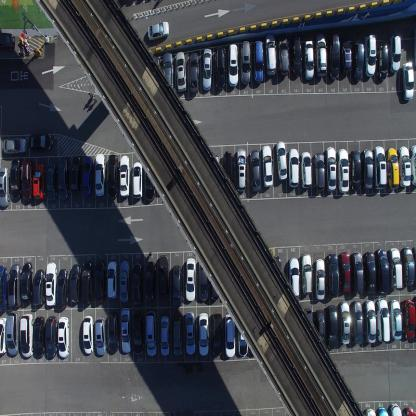car: (312, 34, 328, 78), (5, 310, 20, 356), (7, 263, 22, 308), (400, 298, 416, 340), (388, 247, 403, 290), (376, 247, 389, 296), (44, 314, 58, 359), (376, 298, 390, 342), (373, 145, 387, 189), (386, 146, 400, 190), (262, 34, 276, 77), (401, 246, 416, 286), (351, 249, 364, 295), (388, 298, 402, 340), (326, 253, 339, 298), (20, 313, 33, 358), (145, 309, 157, 357), (157, 253, 169, 301), (120, 306, 132, 354), (325, 144, 337, 192), (275, 36, 289, 77), (251, 40, 264, 84), (350, 300, 363, 344), (239, 40, 251, 87), (211, 311, 223, 357), (81, 260, 93, 306), (261, 143, 273, 189), (94, 152, 106, 198), (300, 253, 313, 295), (106, 311, 119, 353), (56, 268, 69, 310), (340, 31, 352, 76), (249, 148, 261, 193), (325, 304, 337, 349), (224, 312, 236, 357), (45, 262, 57, 307), (337, 148, 349, 193), (362, 147, 374, 192), (329, 32, 340, 81), (57, 158, 70, 199), (32, 162, 46, 200), (147, 19, 170, 42), (214, 45, 226, 89), (288, 257, 300, 301), (364, 250, 376, 294), (364, 299, 376, 343), (132, 311, 144, 355), (237, 313, 249, 357), (198, 312, 210, 356), (184, 310, 196, 354), (144, 260, 156, 304), (118, 258, 130, 302), (94, 260, 106, 304), (222, 150, 234, 194), (349, 148, 361, 192), (364, 33, 376, 77), (398, 146, 411, 186), (314, 258, 326, 301), (338, 301, 350, 344), (21, 261, 33, 304), (143, 159, 155, 202), (94, 317, 107, 356), (107, 154, 118, 200), (289, 36, 301, 78), (339, 251, 351, 293), (302, 306, 314, 348), (33, 316, 45, 358), (209, 152, 221, 194), (276, 140, 288, 182), (21, 160, 33, 202), (106, 259, 118, 300), (82, 314, 94, 355), (132, 260, 142, 309), (236, 148, 247, 192), (198, 258, 209, 302), (185, 257, 196, 301), (301, 41, 313, 81), (314, 308, 326, 348), (313, 152, 325, 192), (389, 32, 401, 72), (402, 61, 414, 101), (28, 132, 53, 151), (2, 136, 27, 155), (174, 49, 185, 92), (270, 254, 281, 297), (300, 150, 312, 189), (188, 50, 199, 92), (58, 316, 69, 358), (162, 51, 173, 93), (10, 158, 21, 200), (288, 147, 299, 188), (228, 43, 238, 88), (119, 153, 129, 198), (377, 43, 389, 80), (202, 46, 212, 90), (70, 263, 81, 303), (46, 162, 57, 202), (160, 315, 170, 358), (172, 264, 182, 307), (33, 268, 44, 307), (82, 155, 92, 197), (150, 54, 161, 92), (172, 315, 182, 356), (70, 154, 80, 195), (0, 263, 8, 314), (353, 41, 363, 81), (132, 161, 142, 200), (210, 262, 220, 300), (0, 166, 9, 208), (0, 32, 16, 51), (0, 316, 7, 355), (410, 144, 415, 187), (389, 402, 402, 415), (402, 405, 416, 415), (376, 405, 388, 415), (364, 407, 376, 415)
